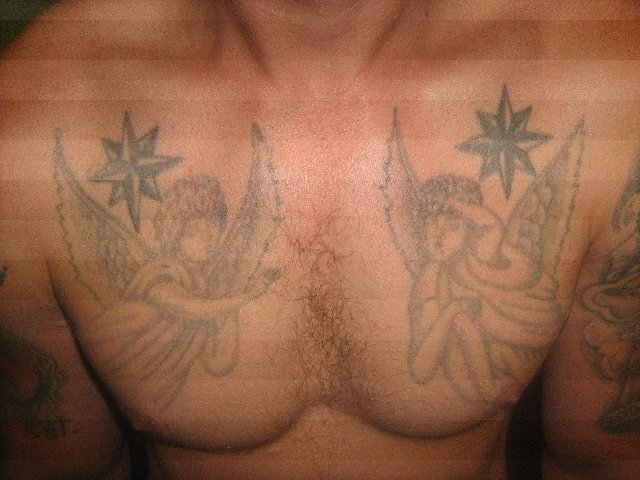tatu1_angel: (343, 117, 565, 384), (75, 181, 288, 374)
